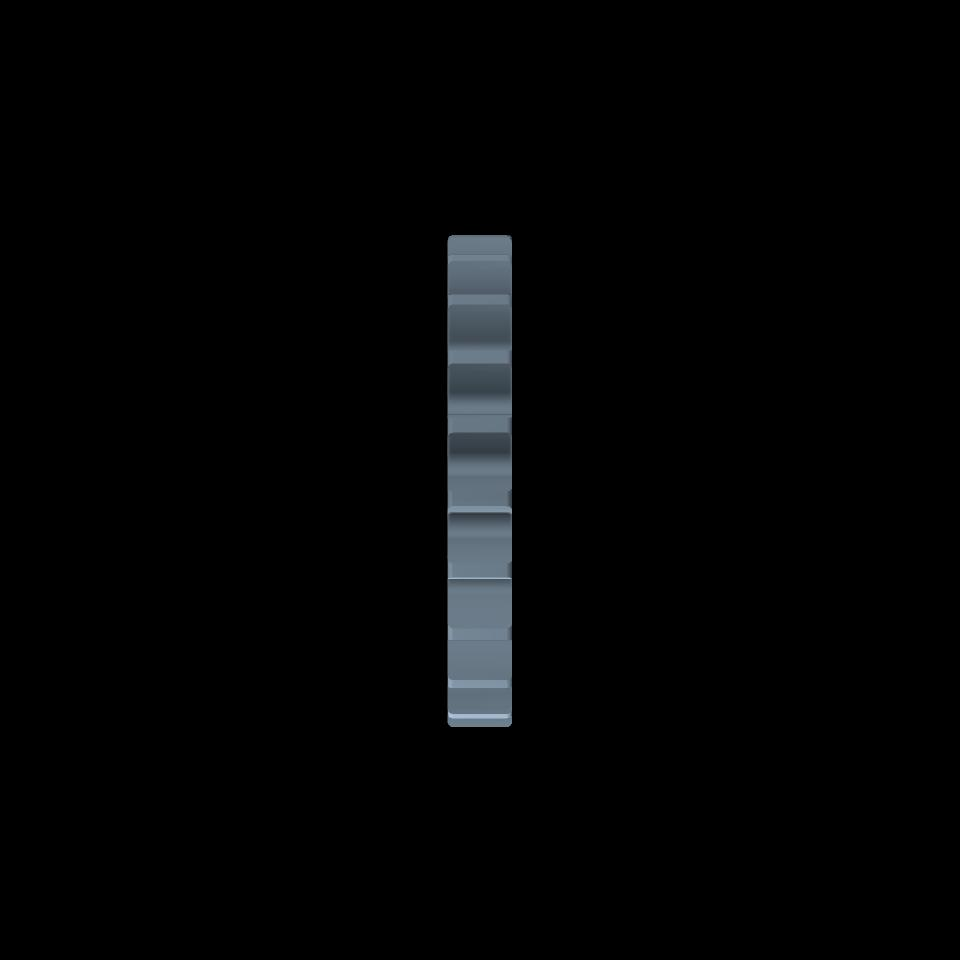Straight: (447, 235, 513, 725)
